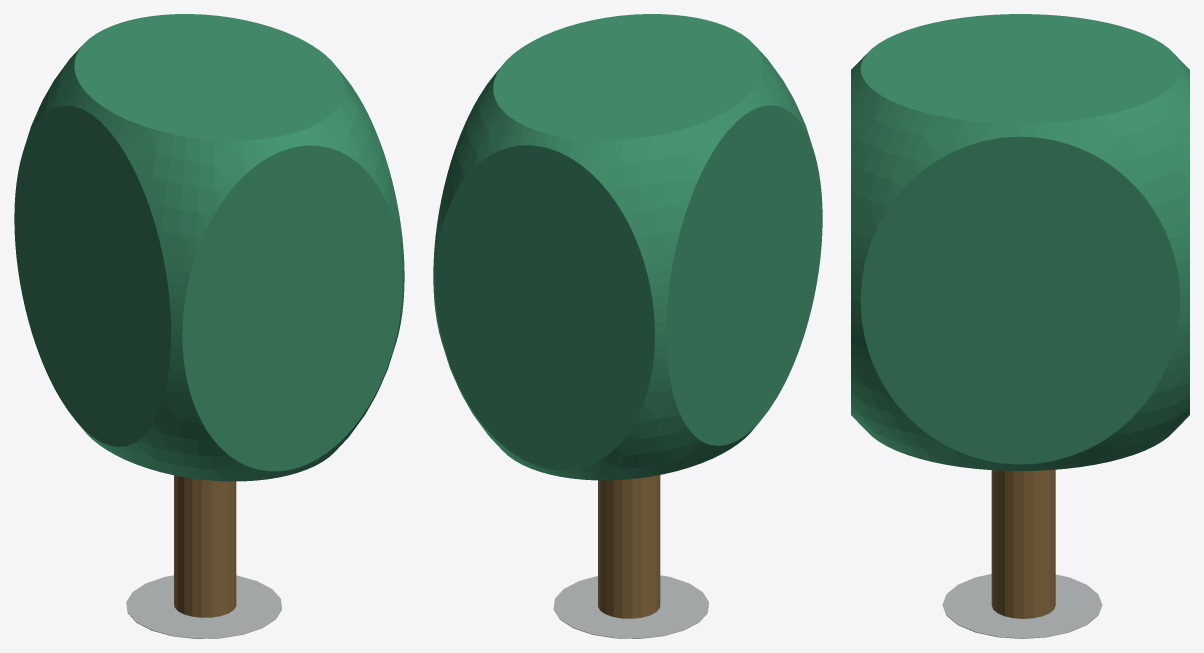
The model's file is DiceTree1.glb.
3 views of the same model, side by side, from view 1: azimuth 30°, elevation 25°; view 2: azimuth 150°, elevation 25°; view 3: azimuth 270°, elevation 25° (orthographic). The views are drawn at different scales.
Visible parts, largest first — view 1: Mesh_Mesh_head_geo.001_lambert2SG.001; view 2: Mesh_Mesh_head_geo.001_lambert2SG.001; view 3: Mesh_Mesh_head_geo.001_lambert2SG.001.
Boxes of the visible parts, x1,y1,x2,y2 form: Mesh_Mesh_head_geo.001_lambert2SG.001: [14, 14, 404, 638]; Mesh_Mesh_head_geo.001_lambert2SG.001: [433, 14, 822, 638]; Mesh_Mesh_head_geo.001_lambert2SG.001: [851, 14, 1189, 638].
Bounding box in the file's own units: 4.3 × 9.3 × 5.3.
